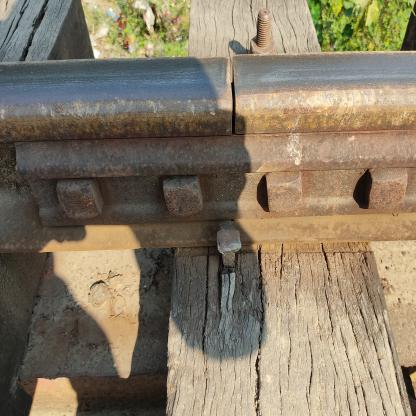Non Defective 3: (30, 125, 415, 246)
